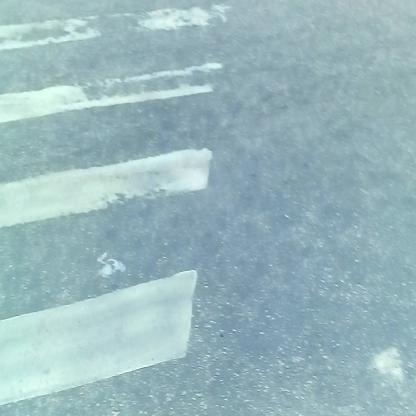crosswalk: (6, 13, 229, 409)
